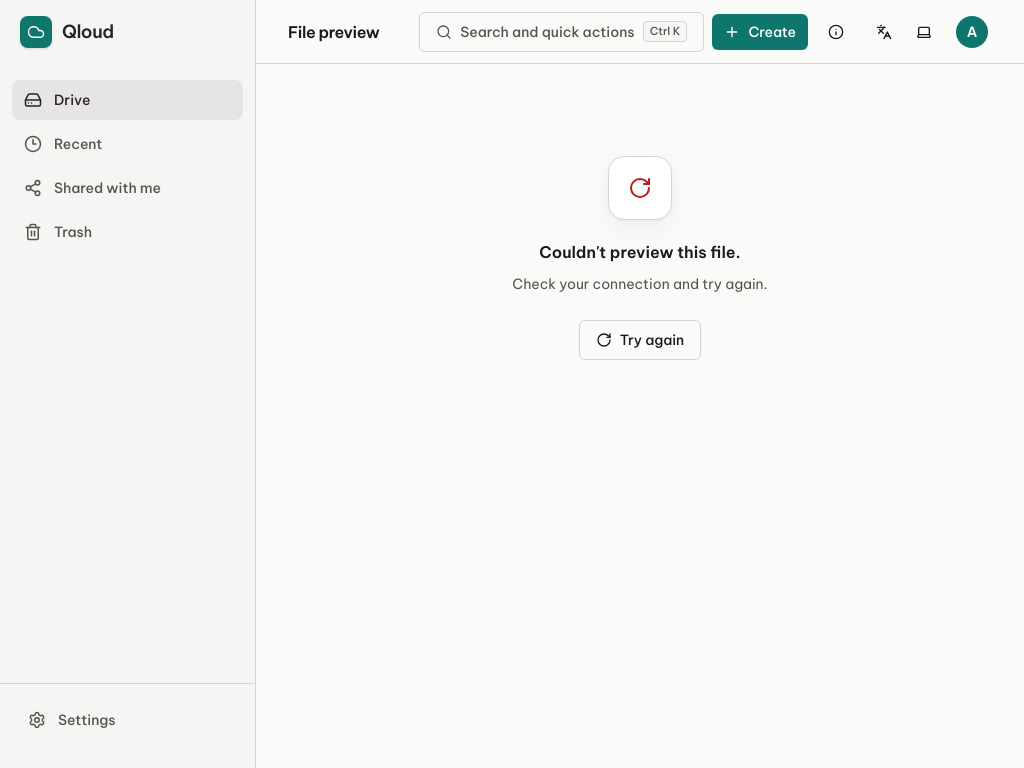
Test case: retries a transient parent error instead of treating it as a private parent
Expected: the heading "Couldn't preview this file." is shown, [539,242,741,262]
Click the button "Try again": (640, 340) [579,320,701,360]
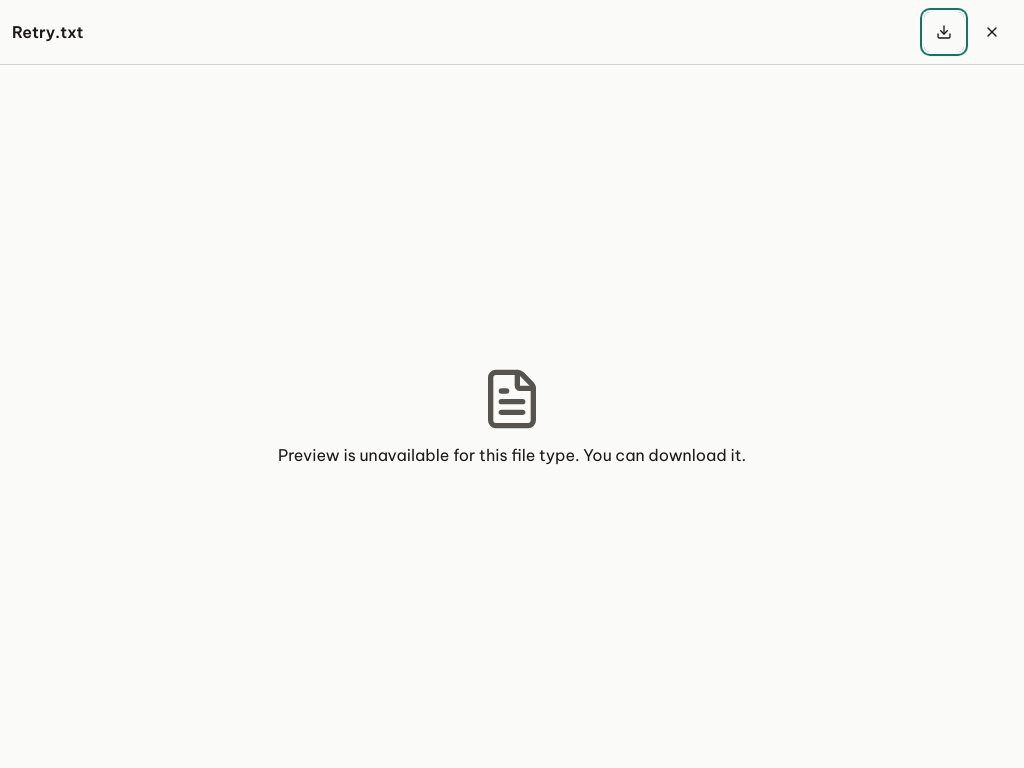
Expected: the dialog "Retry.txt" is shown
